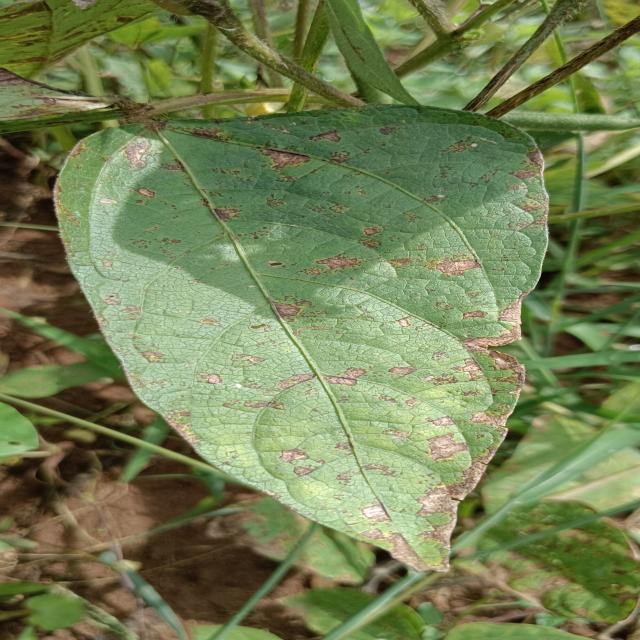Black gram_leaf spot: (59, 104, 551, 571)
